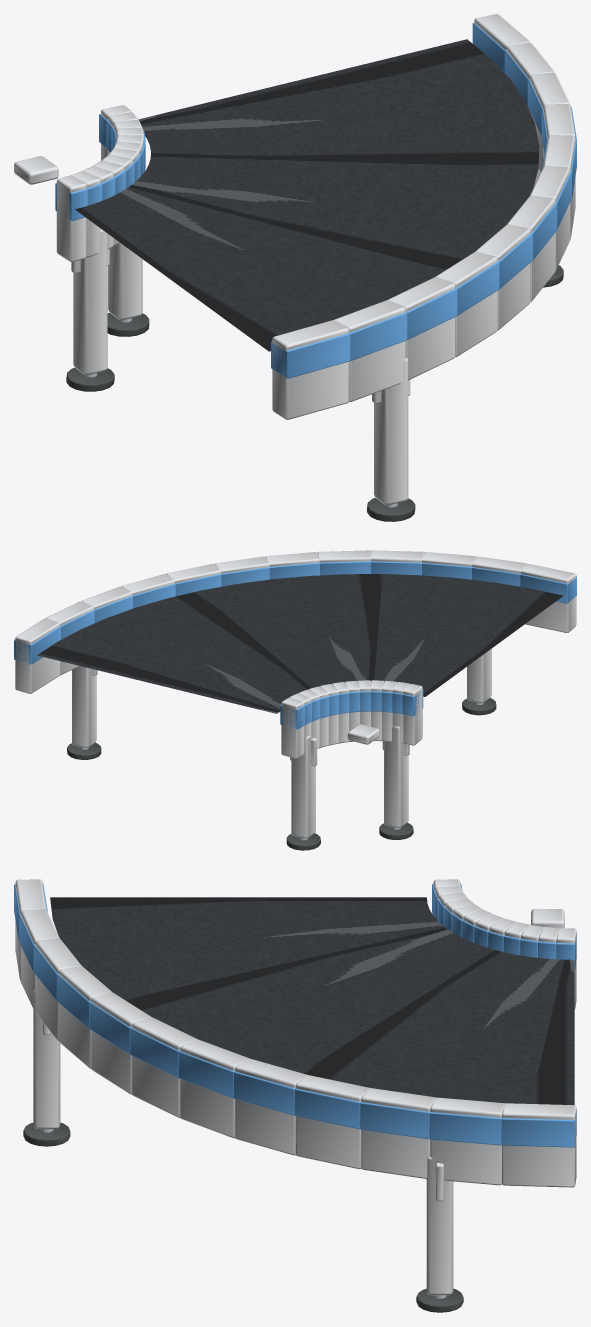
The model's file is cinta_curva_mk2.glb.
The picture shows the model from 3 angles, top to bottom: view 1: azimuth 30°, elevation 25°; view 2: azimuth 150°, elevation 25°; view 3: azimuth 270°, elevation 25°; orthographic projection. The views are drawn at different scales.
Parts seen in each view (by area): view 1: banda, bastidor_ext0, pata_int0, pata_ext0, bastidor_ext1, bastidor_ext2, bastidor_ext3, bastidor_ext4, pata_int1, franja_ext0, bastidor_int0, bastidor_ext5 (+17 smaller); view 2: banda, pata_int0, bastidor_ext11, pata_int1, pata_ext1, bastidor_ext0, bastidor_int11, pata_ext0, bastidor_int0, franja_ext0, franja_ext11, bastidor_ext10 (+29 smaller); view 3: banda, bastidor_ext11, bastidor_ext9, bastidor_ext10, bastidor_ext8, bastidor_ext7, bastidor_ext6, pata_ext1, bastidor_ext5, pata_ext0, bastidor_ext4, bastidor_ext3 (+16 smaller).
Part boxes in pixels (<box>): banda: <box>75,39,539,351</box>; bastidor_ext0: <box>272,320,348,419</box>; pata_int0: <box>73,229,107,374</box>; pata_ext0: <box>374,358,408,505</box>; bastidor_ext1: <box>334,300,405,402</box>; bastidor_ext2: <box>388,277,455,380</box>; bastidor_ext3: <box>435,251,497,357</box>; bastidor_ext4: <box>475,224,530,330</box>; pata_int1: <box>108,243,142,320</box>; franja_ext0: <box>271,333,350,378</box>; bastidor_int0: <box>56,175,86,261</box>; bastidor_ext5: <box>507,195,555,301</box>; banda: <box>37,574,563,713</box>; pata_int0: <box>384,726,408,828</box>; bastidor_ext11: <box>15,618,59,693</box>; pata_int1: <box>291,736,315,838</box>; pata_ext1: <box>72,666,96,747</box>; bastidor_ext0: <box>521,564,576,632</box>; bastidor_int11: <box>281,697,303,758</box>; pata_ext0: <box>467,649,491,703</box>; bastidor_int0: <box>403,684,422,745</box>; franja_ext0: <box>520,574,576,603</box>; franja_ext11: <box>14,626,60,664</box>; bastidor_ext10: <box>45,601,93,675</box>; banda: <box>50,897,574,1104</box>; bastidor_ext11: <box>502,1103,576,1187</box>; bastidor_ext9: <box>361,1088,436,1178</box>; bastidor_ext10: <box>430,1097,504,1185</box>; bastidor_ext8: <box>295,1075,369,1169</box>; bastidor_ext7: <box>235,1058,307,1155</box>; bastidor_ext6: <box>180,1039,249,1138</box>; pata_ext1: <box>426,1157,453,1295</box>; bastidor_ext5: <box>131,1017,196,1117</box>; pata_ext0: <box>33,989,60,1128</box>; bastidor_ext4: <box>91,992,150,1094</box>; bastidor_ext3: <box>58,966,112,1068</box>.
Bounding box in the file's own units: 0.837 × 0.33 × 0.837.
Materials: 5 (1 with a texture image).
